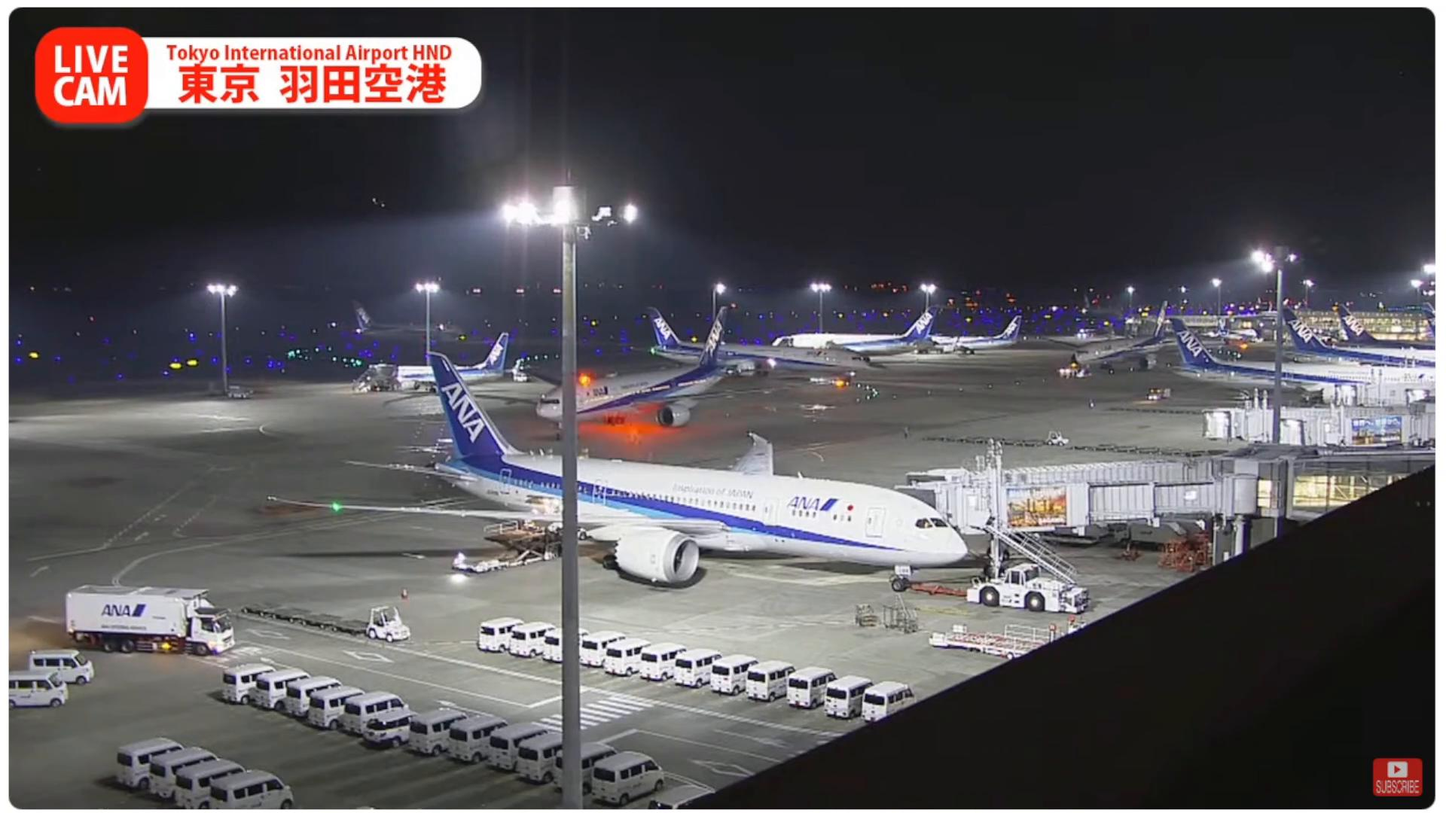APS: (967, 564, 1093, 613)
Aerobridge: (895, 475, 1256, 534), (895, 456, 1224, 487)
Airplane: (270, 351, 971, 589)
Catering: (65, 583, 238, 655)
Dolly: (240, 600, 372, 635)
JCPL: (453, 517, 561, 571), (935, 624, 1072, 658)
Tractor: (367, 606, 410, 641)
Window: (1290, 455, 1437, 521)
